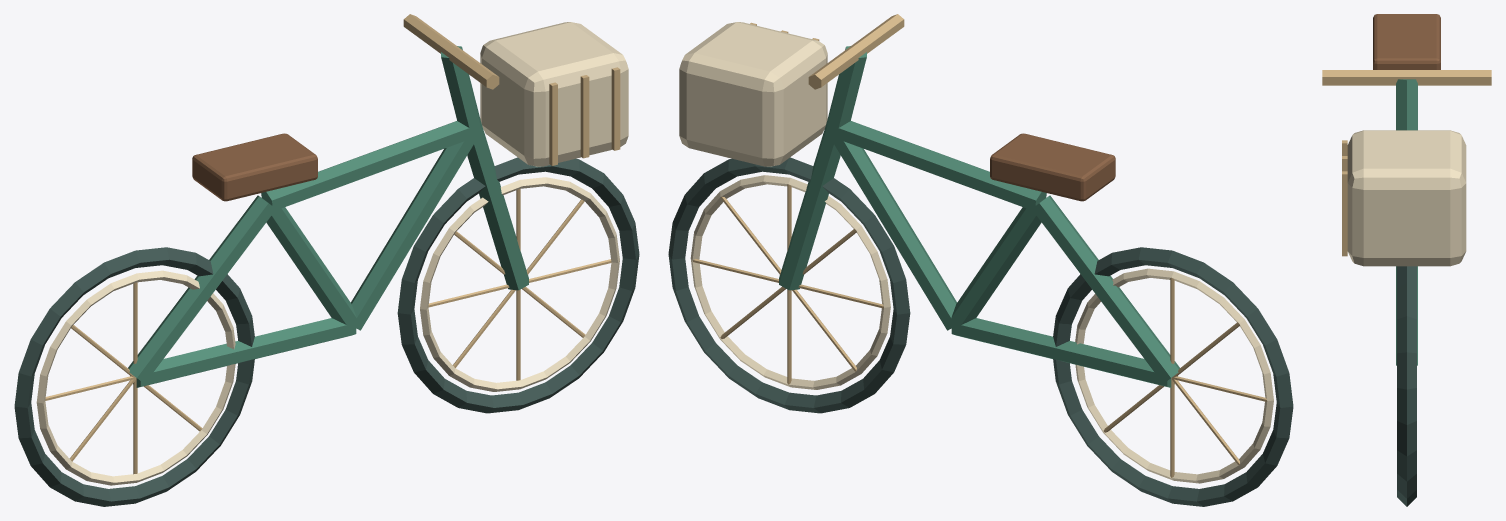
The model's file is tpe5_parked_bicycle.glb.
3 views of the same model, side by side, from view 1: azimuth 30°, elevation 25°; view 2: azimuth 150°, elevation 25°; view 3: azimuth 270°, elevation 25° (orthographic). The views are drawn at different scales.
Visible parts, largest first — view 1: tpe5_parked_bicycle__tpe5-street-jade, tpe5_parked_bicycle__tpe5-street-ivory, tpe5_parked_bicycle__tpe5-street-ink, tpe5_parked_bicycle__tpe5-street-brass, tpe5_parked_bicycle__tpe5-street-walnut; view 2: tpe5_parked_bicycle__tpe5-street-ivory, tpe5_parked_bicycle__tpe5-street-jade, tpe5_parked_bicycle__tpe5-street-ink, tpe5_parked_bicycle__tpe5-street-brass, tpe5_parked_bicycle__tpe5-street-walnut; view 3: tpe5_parked_bicycle__tpe5-street-ivory, tpe5_parked_bicycle__tpe5-street-ink, tpe5_parked_bicycle__tpe5-street-walnut, tpe5_parked_bicycle__tpe5-street-brass, tpe5_parked_bicycle__tpe5-street-jade.
Boxes of the visible parts, x1=… form: tpe5_parked_bicycle__tpe5-street-jade: x1=128, y1=46, x2=528, y2=387; tpe5_parked_bicycle__tpe5-street-ivory: x1=36, y1=22, x2=628, y2=485; tpe5_parked_bicycle__tpe5-street-ink: x1=14, y1=157, x2=639, y2=506; tpe5_parked_bicycle__tpe5-street-brass: x1=45, y1=14, x2=620, y2=474; tpe5_parked_bicycle__tpe5-street-walnut: x1=192, y1=133, x2=317, y2=201; tpe5_parked_bicycle__tpe5-street-ivory: x1=679, y1=22, x2=1273, y2=483; tpe5_parked_bicycle__tpe5-street-jade: x1=779, y1=46, x2=1179, y2=387; tpe5_parked_bicycle__tpe5-street-ink: x1=668, y1=157, x2=1293, y2=506; tpe5_parked_bicycle__tpe5-street-brass: x1=693, y1=14, x2=1266, y2=477; tpe5_parked_bicycle__tpe5-street-walnut: x1=990, y1=133, x2=1115, y2=201; tpe5_parked_bicycle__tpe5-street-ivory: x1=1347, y1=130, x2=1466, y2=266; tpe5_parked_bicycle__tpe5-street-ink: x1=1397, y1=266, x2=1416, y2=506; tpe5_parked_bicycle__tpe5-street-walnut: x1=1373, y1=14, x2=1440, y2=69; tpe5_parked_bicycle__tpe5-street-brass: x1=1322, y1=70, x2=1491, y2=256; tpe5_parked_bicycle__tpe5-street-jade: x1=1396, y1=79, x2=1417, y2=365.
Bounding box in the file's own units: 2.61 × 1.52 × 0.6.
